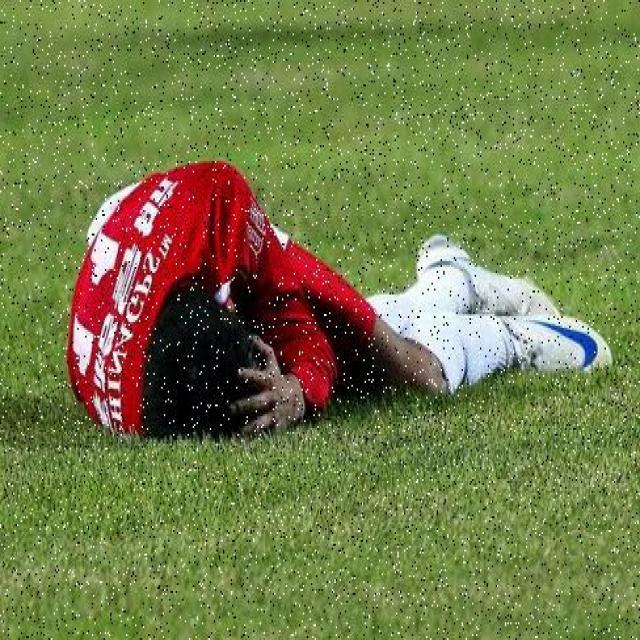fall: (68, 163, 584, 442)
